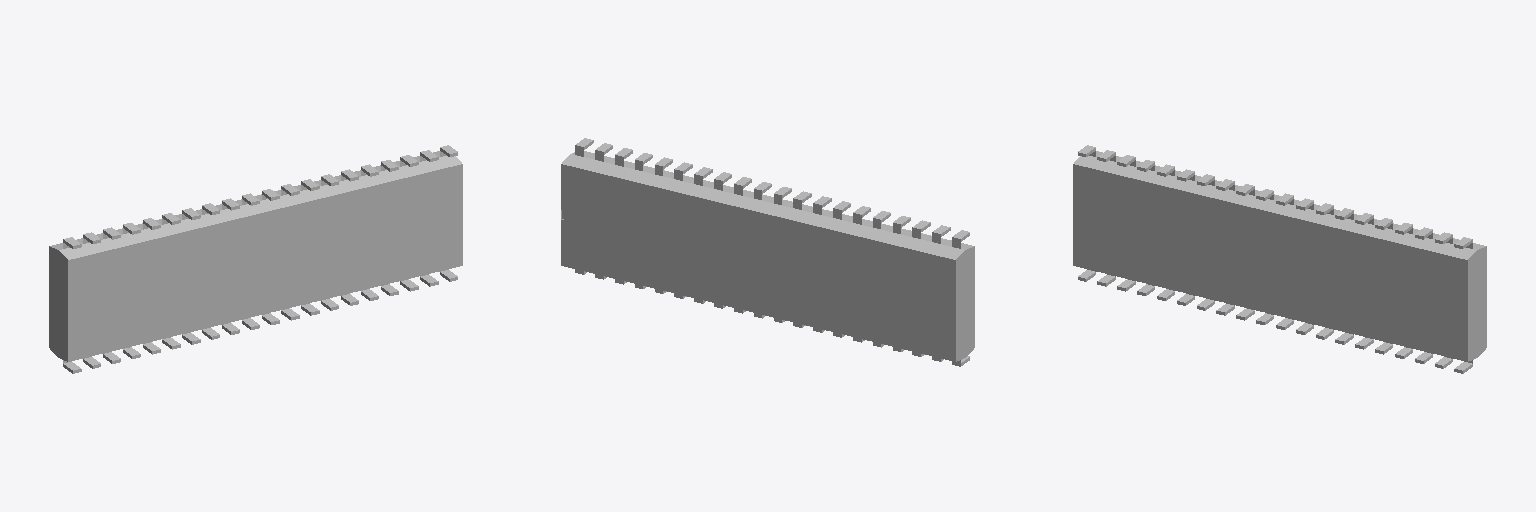
Rendered from DIL40.obj.
3 renders of one model, left to right at view 1: azimuth 30°, elevation 25°; view 2: azimuth 150°, elevation 25°; view 3: azimuth 330°, elevation 25°, orthographic.
Parts seen in each view (by area): view 1: ShapeIndexedFaceSet.001_ShapeIndexedFaceSet.002; view 2: ShapeIndexedFaceSet.001_ShapeIndexedFaceSet.002, ShapeIndexedFaceSet_ShapeIndexedFaceSet.001; view 3: ShapeIndexedFaceSet.001_ShapeIndexedFaceSet.002.
Boxes of the visible parts, box(x1,y1,x2,y2) form: ShapeIndexedFaceSet.001_ShapeIndexedFaceSet.002: box(49, 151, 462, 361); ShapeIndexedFaceSet.001_ShapeIndexedFaceSet.002: box(561, 151, 974, 361); ShapeIndexedFaceSet_ShapeIndexedFaceSet.001: box(572, 201, 653, 253); ShapeIndexedFaceSet.001_ShapeIndexedFaceSet.002: box(1073, 151, 1486, 361).
Bounding box in the file's own units: 50.55 × 15.64 × 4.26.